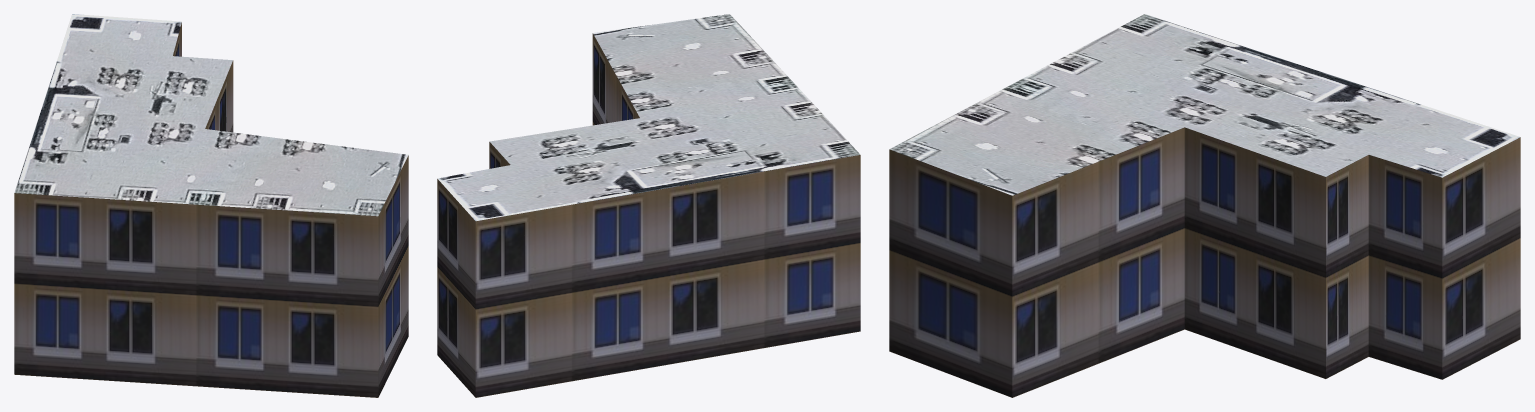
File: ResTex__305.fbx
3 renders of one model, left to right at view 1: azimuth 30°, elevation 25°; view 2: azimuth 150°, elevation 25°; view 3: azimuth 270°, elevation 25°, orthographic. The views are drawn at different scales.
Parts seen in each view (by area): view 1: CityEngineMaterial_5_m, CityEngineMaterial_2_m; view 2: CityEngineMaterial_5_m, CityEngineMaterial_2_m; view 3: CityEngineMaterial_5_m, CityEngineMaterial_2_m.
Part boxes in pixels (bbox=[...]): CityEngineMaterial_5_m: bbox=[14, 22, 408, 397]; CityEngineMaterial_2_m: bbox=[14, 14, 408, 216]; CityEngineMaterial_5_m: bbox=[437, 33, 860, 397]; CityEngineMaterial_2_m: bbox=[437, 14, 860, 221]; CityEngineMaterial_5_m: bbox=[889, 127, 1520, 397]; CityEngineMaterial_2_m: bbox=[889, 14, 1520, 195].
Size of the model in its own units: 11.57 by 6 by 16.99.
Materials: 2 (2 with a texture image).
